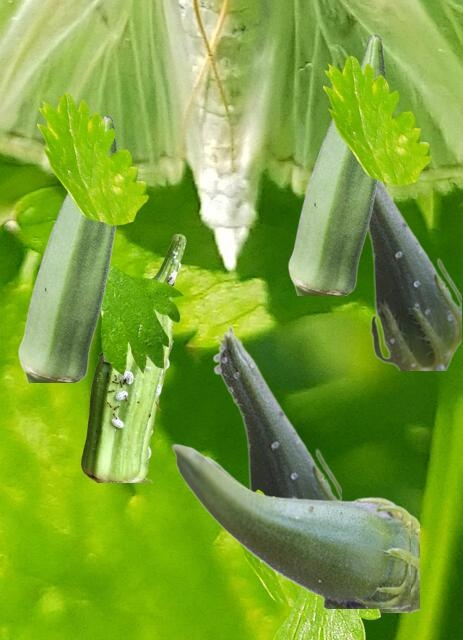okra: (171, 443, 409, 607), (205, 455, 418, 611), (18, 115, 118, 381), (81, 234, 185, 481), (288, 34, 386, 294), (212, 325, 340, 499), (368, 182, 460, 369)
